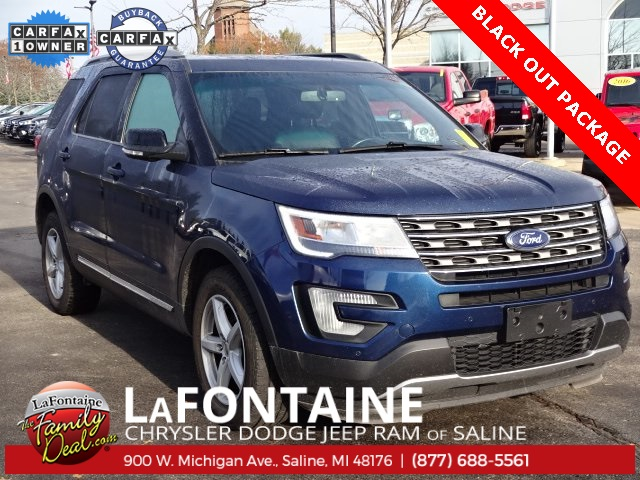Ford Explorer: (32, 51, 634, 432)
